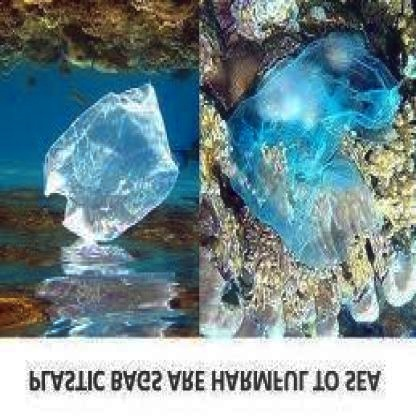pbag: (224, 34, 398, 262), (42, 82, 178, 244)
